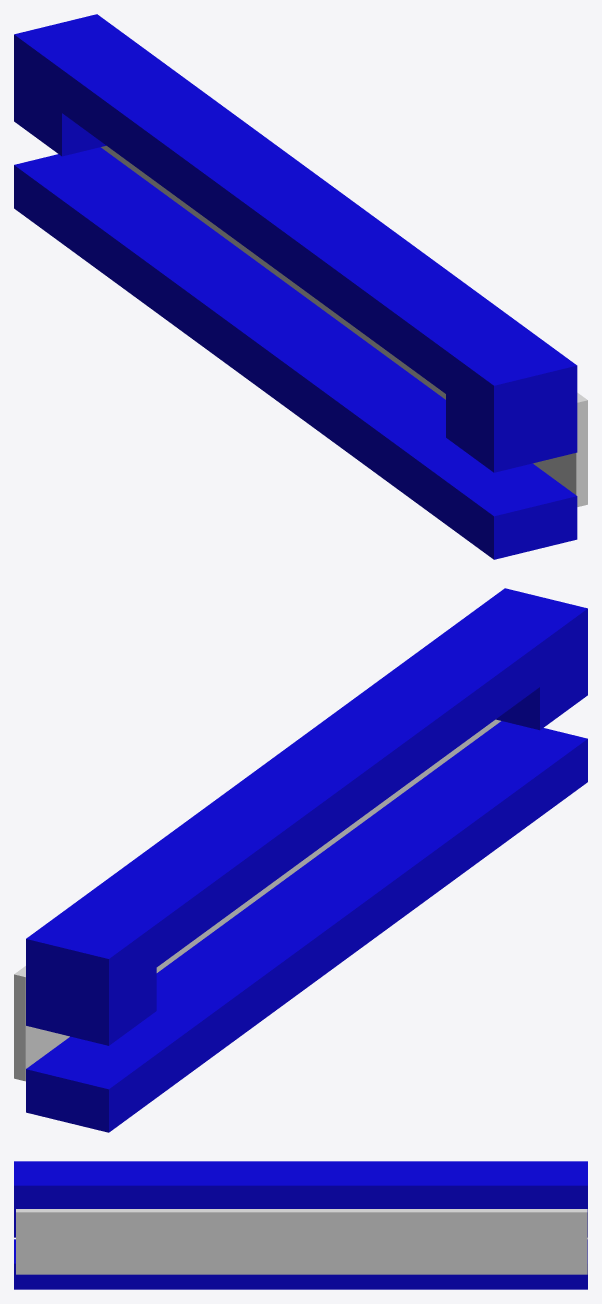
The model's file is Level_3_scene13_colored_bg.fbx.
The picture shows the model from 3 angles, top to bottom: view 1: azimuth 30°, elevation 25°; view 2: azimuth 150°, elevation 25°; view 3: azimuth 270°, elevation 25°; orthographic projection. The views are drawn at different scales.
Parts seen in each view (by area): view 1: area1.007, Cube.174; view 2: area1.007, Cube.174; view 3: Cube.174, area1.007.
Part boxes in pixels (box(x1,y1,x2,y2)): area1.007: box(14, 14, 577, 559); Cube.174: box(101, 145, 587, 506); area1.007: box(26, 588, 587, 1132); Cube.174: box(14, 719, 500, 1081); Cube.174: box(16, 1209, 587, 1274); area1.007: box(14, 1161, 587, 1289).
Size of the model in its own units: 1148 by 2000 by 10000.
